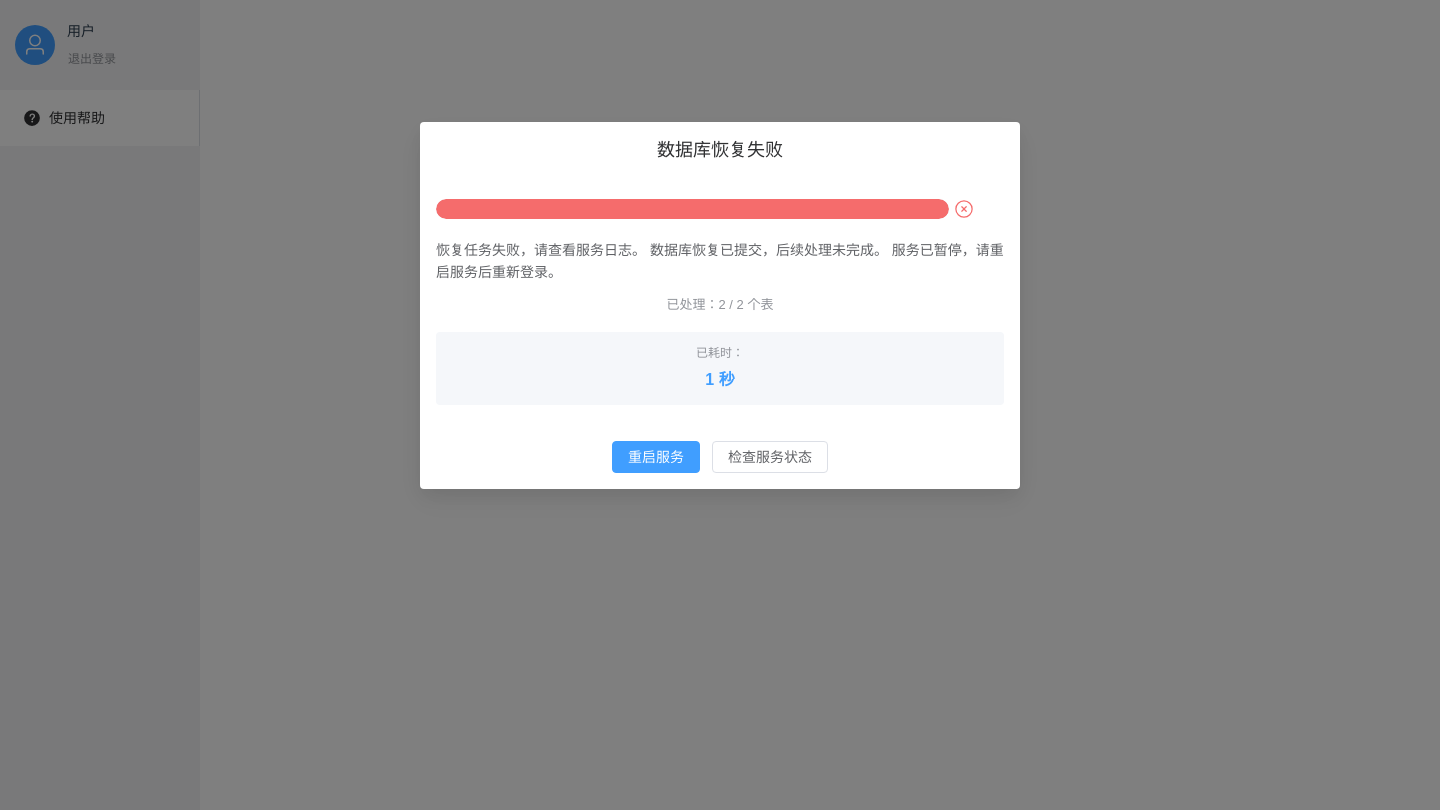
Test case: 恢复结果与重启服务交互 › 恢复已提交后的收尾失败明确说明数据已提交，重启后仍保留结论
Expected: the dialog shows "数据库恢复已提交，后续处理未完成", top-left (436, 242), bottom-right (1004, 280)
Step 1. Click the button "重启服务" → (656, 457), box top-left (612, 441), bottom-right (700, 473)
Wait 3000 ms
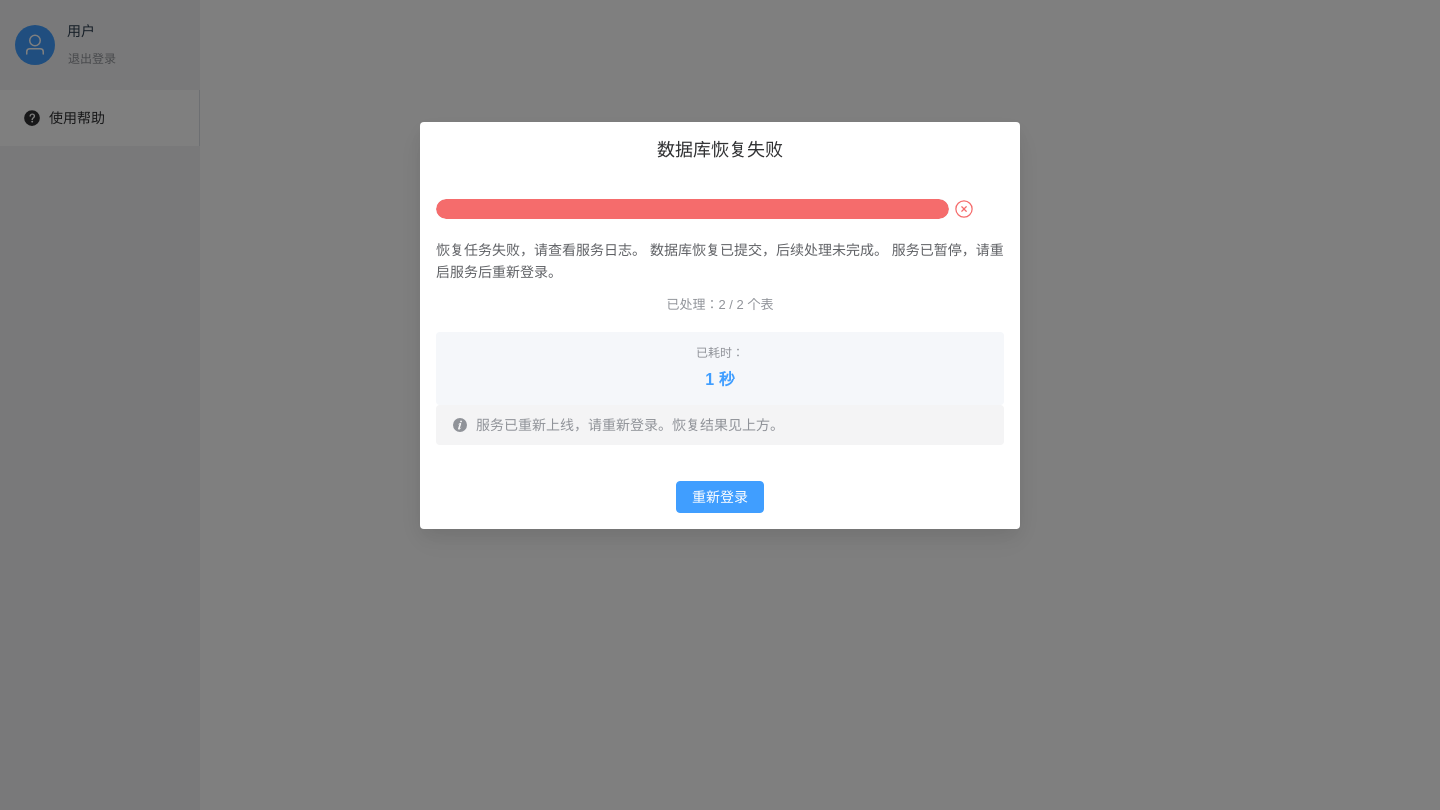
Expected: the dialog shows "数据库恢复已提交，后续处理未完成", top-left (436, 242), bottom-right (1004, 280)
Expected: the button "重新登录" is shown, top-left (676, 481), bottom-right (764, 513)
